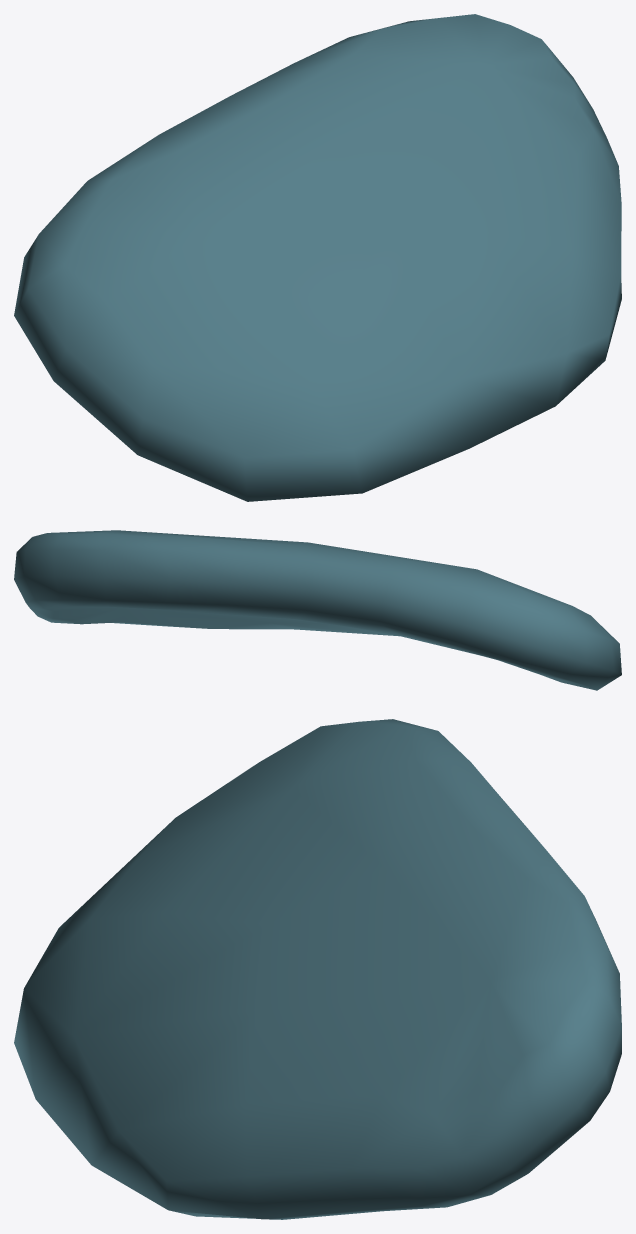
File: Extensor_digitorum_longus_&_brevis_on_3d_distal_phalanx.l_Gener.glb
The picture shows the model from 3 angles, top to bottom: view 1: azimuth 30°, elevation 25°; view 2: azimuth 150°, elevation 25°; view 3: azimuth 270°, elevation 25°; orthographic projection. The views are drawn at different scales.
Parts seen in each view (by area): view 1: Extensor_digitorum_longus_&_brevis_on_3d_distal_phalanx.l_Ge; view 2: Extensor_digitorum_longus_&_brevis_on_3d_distal_phalanx.l_Ge; view 3: Extensor_digitorum_longus_&_brevis_on_3d_distal_phalanx.l_Ge.
Part boxes in pixels (x1=…): Extensor_digitorum_longus_&_brevis_on_3d_distal_phalanx.l_Ge: x1=14, y1=14, x2=621, y2=501; Extensor_digitorum_longus_&_brevis_on_3d_distal_phalanx.l_Ge: x1=14, y1=530, x2=621, y2=690; Extensor_digitorum_longus_&_brevis_on_3d_distal_phalanx.l_Ge: x1=14, y1=719, x2=621, y2=1219.
Size of the model in its own units: 0.00375 by 0.00137 by 0.00255.
